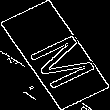M_NE: (14, 22, 96, 88)
